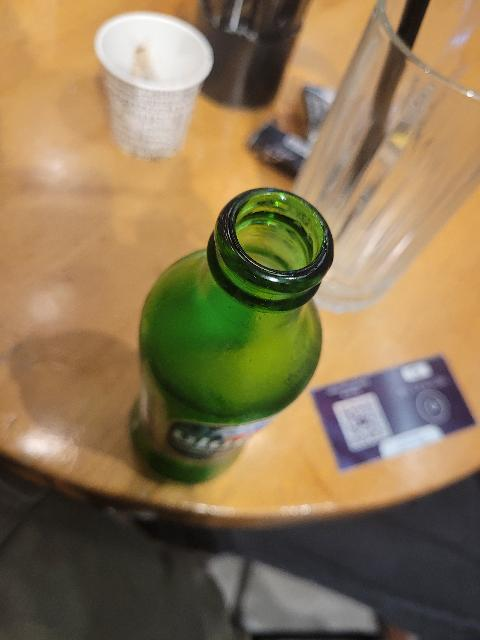Cam: (135, 186, 334, 498)
Kagit: (94, 13, 217, 158)
